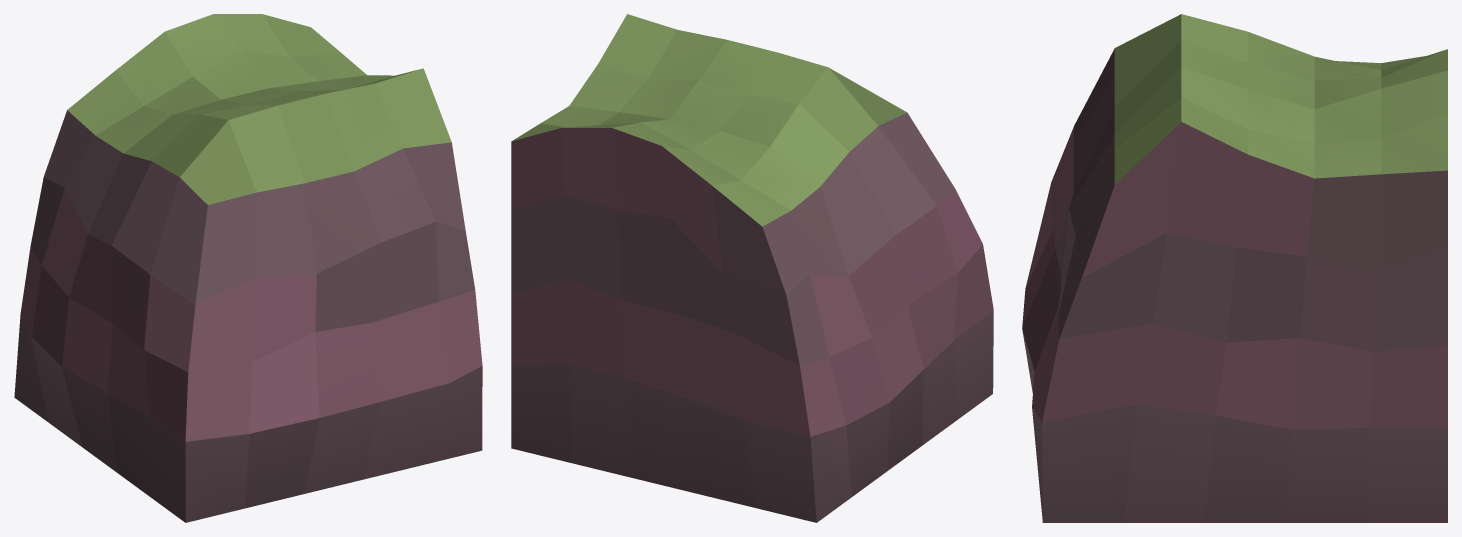
File: roca_esquina_3.glb
The picture shows the model from 3 angles, left to right: view 1: azimuth 30°, elevation 25°; view 2: azimuth 150°, elevation 25°; view 3: azimuth 270°, elevation 25°; orthographic projection. The views are drawn at different scales.
Parts seen in each view (by area): view 1: propforge-cuartos-roca_esquina; view 2: propforge-cuartos-roca_esquina; view 3: propforge-cuartos-roca_esquina.
Boxes of the visible parts, x1=… form: propforge-cuartos-roca_esquina: x1=14, y1=14, x2=482, y2=522; propforge-cuartos-roca_esquina: x1=511, y1=14, x2=993, y2=522; propforge-cuartos-roca_esquina: x1=1022, y1=14, x2=1447, y2=522.
Bounding box in the file's own units: 0.9355 × 0.9839 × 0.9459.
